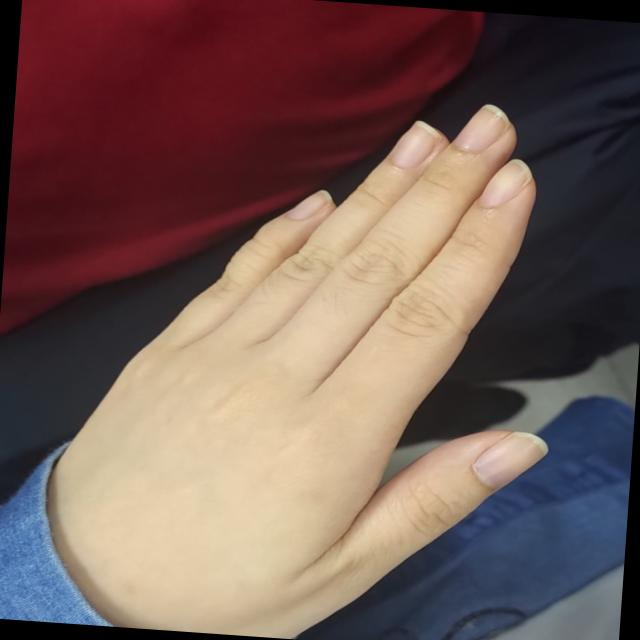Nail: (473, 431, 548, 489), (480, 157, 533, 206), (390, 119, 443, 167), (455, 101, 509, 148), (286, 188, 333, 219)
